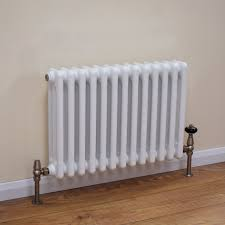Radiator: (33, 58, 197, 185)
